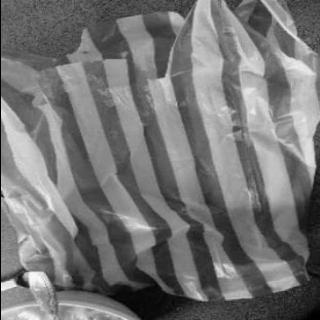objects: (18, 0, 320, 312)
